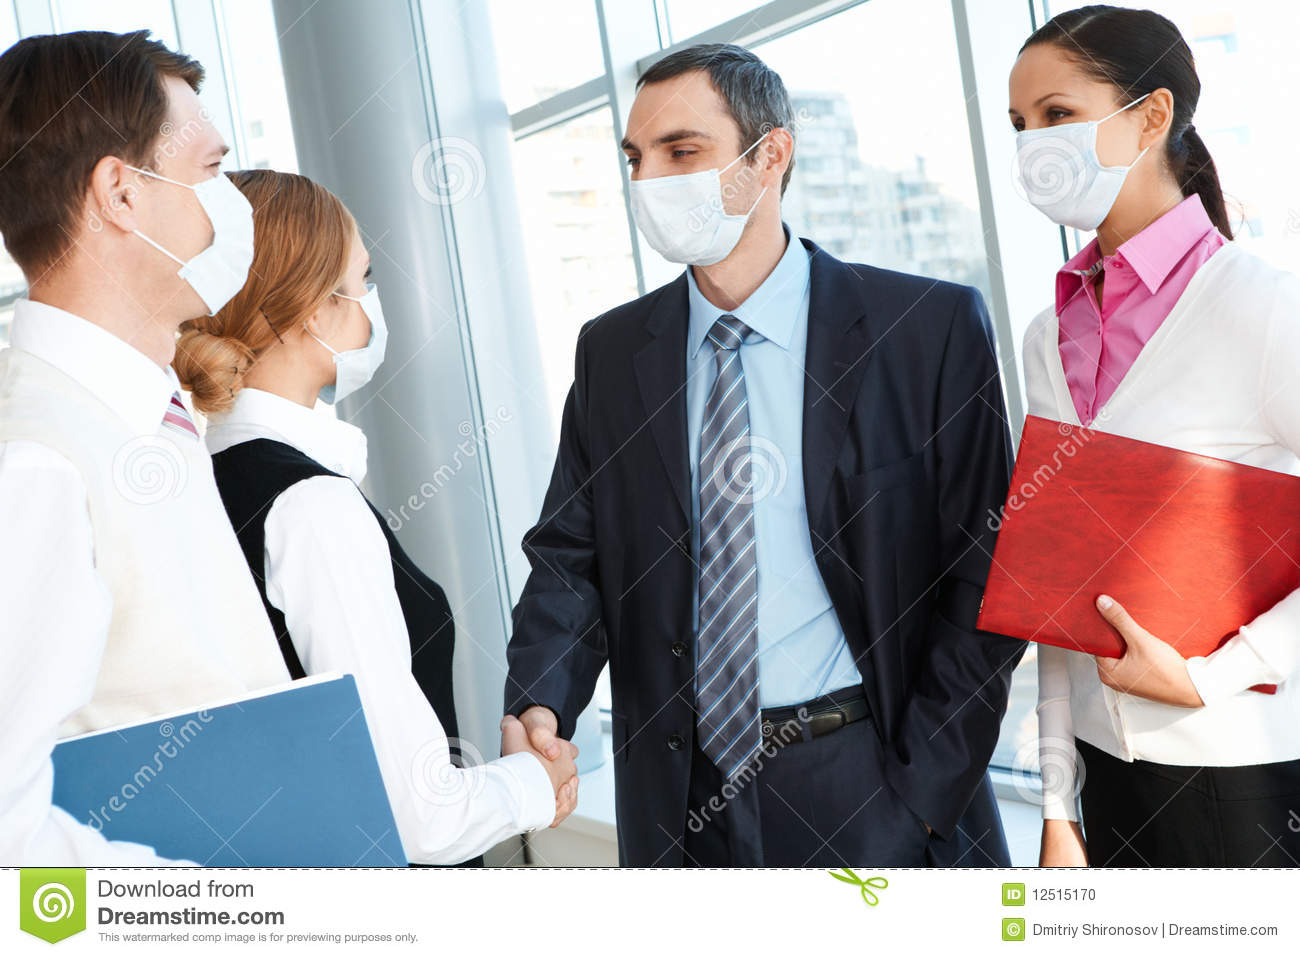mask: (1007, 119, 1131, 241), (625, 170, 741, 271), (175, 180, 257, 307), (341, 292, 403, 424)
